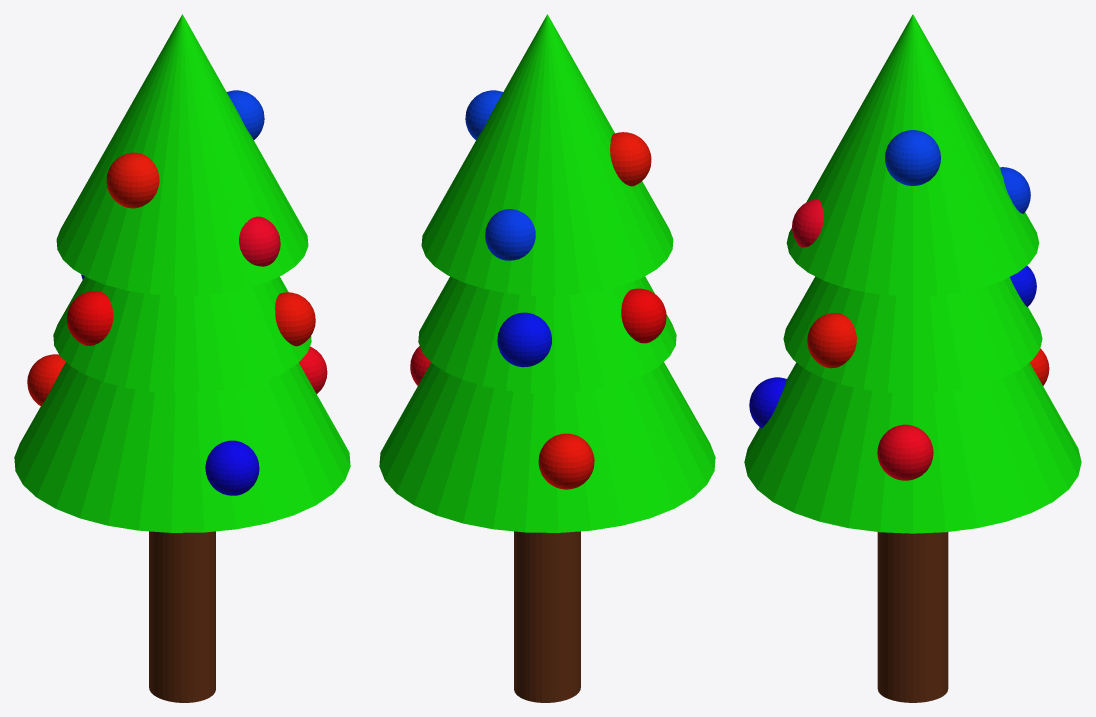
The model's file is pinito.glb.
3 views of the same model, side by side, from view 1: azimuth 30°, elevation 25°; view 2: azimuth 150°, elevation 25°; view 3: azimuth 270°, elevation 25° (orthographic).
Parts seen in each view (by area): view 1: Cone, Cone.002, Cone.001, Cylinder, Sphere.009, Sphere.002, Sphere.004, Sphere.006, Sphere.003, Sphere.008, Sphere, Sphere.007; view 2: Cone, Cone.002, Cone.001, Cylinder, Sphere.008, Sphere.005, Sphere.001, Sphere.004, Sphere.002, Sphere; view 3: Cone, Cone.002, Cone.001, Cylinder, Sphere.007, Sphere, Sphere.006, Sphere.009, Sphere.003, Sphere.001, Sphere.005.
Part boxes in pixels (x1=…): Cone: x1=14, y1=362, x2=350, y2=532; Cone.002: x1=56, y1=14, x2=308, y2=295; Cone.001: x1=53, y1=276, x2=311, y2=393; Cylinder: x1=149, y1=531, x2=215, y2=702; Sphere.009: x1=205, y1=440, x2=259, y2=495; Sphere.002: x1=106, y1=152, x2=159, y2=208; Sphere.004: x1=66, y1=291, x2=113, y2=345; Sphere.006: x1=275, y1=292, x2=315, y2=346; Sphere.003: x1=239, y1=216, x2=280, y2=266; Sphere.008: x1=27, y1=354, x2=65, y2=405; Sphere: x1=226, y1=90, x2=264, y2=139; Sphere.007: x1=299, y1=346, x2=327, y2=393; Cone: x1=379, y1=362, x2=715, y2=532; Cone.002: x1=421, y1=14, x2=673, y2=295; Cone.001: x1=418, y1=276, x2=676, y2=393; Cylinder: x1=514, y1=531, x2=580, y2=702; Sphere.008: x1=538, y1=433, x2=594, y2=489; Sphere.005: x1=497, y1=312, x2=551, y2=367; Sphere.001: x1=485, y1=209, x2=535, y2=260; Sphere.004: x1=621, y1=288, x2=666, y2=343; Sphere.002: x1=610, y1=132, x2=651, y2=186; Sphere: x1=465, y1=90, x2=503, y2=139; Cone: x1=744, y1=362, x2=1081, y2=533; Cone.002: x1=786, y1=14, x2=1039, y2=296; Cone.001: x1=783, y1=276, x2=1042, y2=393; Cylinder: x1=877, y1=532, x2=948, y2=702; Sphere.007: x1=877, y1=424, x2=933, y2=480; Sphere: x1=885, y1=130, x2=940, y2=185; Sphere.006: x1=807, y1=313, x2=856, y2=368; Sphere.009: x1=749, y1=377, x2=786, y2=428; Sphere.003: x1=792, y1=199, x2=823, y2=247; Sphere.001: x1=1000, y1=167, x2=1030, y2=213; Sphere.005: x1=1010, y1=265, x2=1036, y2=306.
Size of the model in its own units: 3.74 by 8.26 by 3.74.
